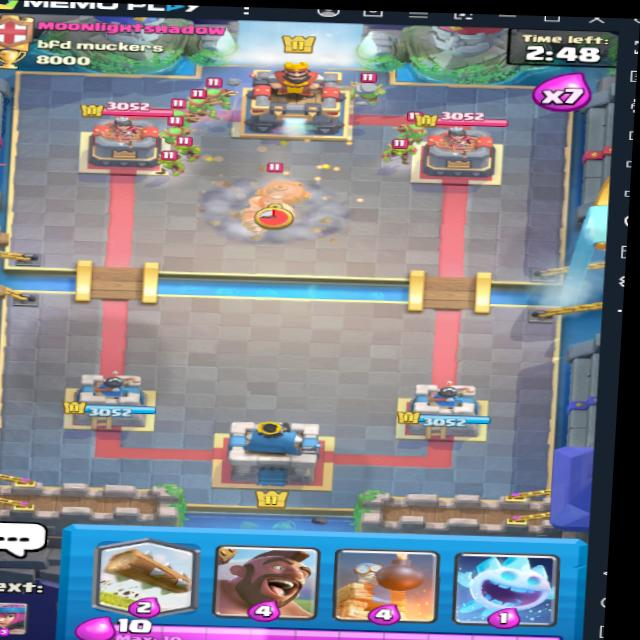Goblin: (371, 135, 418, 161), (150, 148, 188, 174), (167, 135, 206, 159)
Mightyminer: (228, 162, 316, 236)
Speargoblin: (195, 77, 238, 107), (390, 111, 433, 140), (180, 92, 220, 119), (154, 120, 194, 144)
